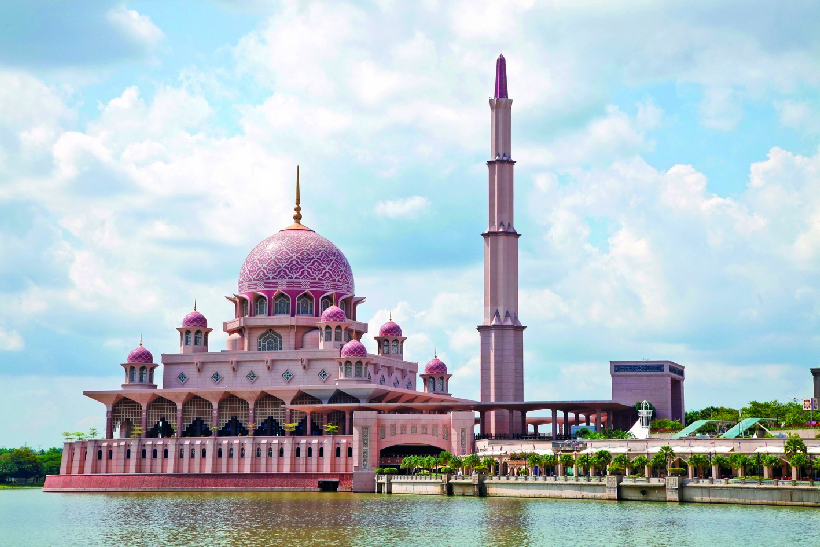Mosque: (95, 50, 527, 487)
